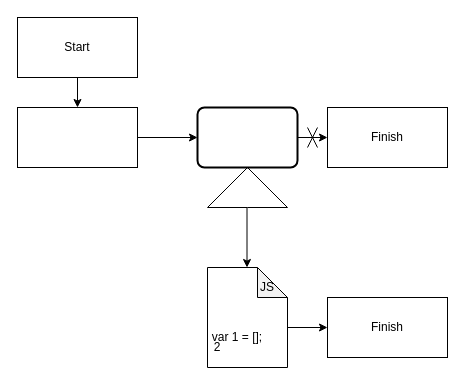
The diagram is 465 pixels wide and 385 high, and some of its shapes have lost their labels. Each missing label, with the centre of its shape:
"Computer" goes at point (247, 137).
"User Script" goes at point (77, 137).
